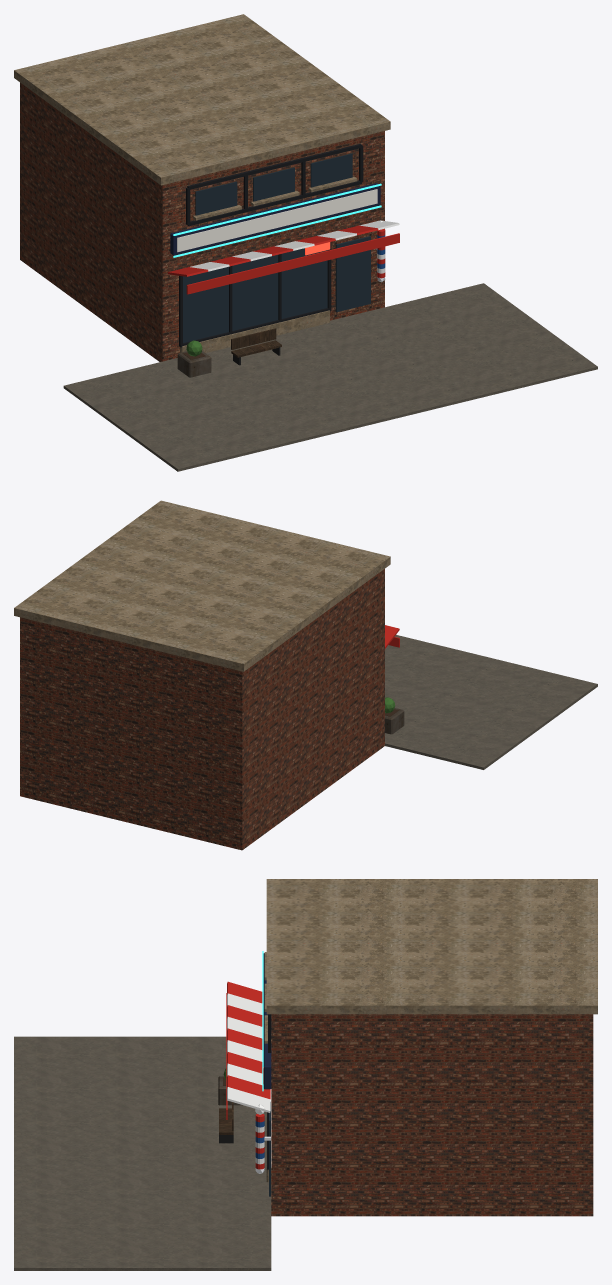
The model's file is OT_Barber_A.glb.
3 renders of one model, top to bottom at view 1: azimuth 30°, elevation 25°; view 2: azimuth 150°, elevation 25°; view 3: azimuth 270°, elevation 25°, orthographic. The views are drawn at different scales.
Parts seen in each view (by area): view 1: OT_Barber_A_Pavement, OT_Barber_A_Stone, OT_Barber_A_Brick, OT_Barber_A_Glass__22303a, OT_Barber_A_Frame__18191c, OT_Barber_A_BarberRed__c4261d, OT_Barber_A_SignFace__f2efe6, OT_Barber_A_SignNavy__1b2440, OT_Barber_A_PaintWhite__f0f0ee, OT_Barber_A_NeonTeal__2fe0d8, OT_Barber_A_Wood, OT_Barber_A_PlanterStone; view 2: OT_Barber_A_Brick, OT_Barber_A_Stone, OT_Barber_A_Pavement; view 3: OT_Barber_A_Brick, OT_Barber_A_Pavement, OT_Barber_A_Stone, OT_Barber_A_BarberRed__c4261d, OT_Barber_A_PaintWhite__f0f0ee, OT_Barber_A_SignNavy__1b2440.
Part boxes in pixels (x1,y1,x2,y2): OT_Barber_A_Pavement: (63,283,597,471); OT_Barber_A_Stone: (14,14,390,352); OT_Barber_A_Brick: (20,82,384,361); OT_Barber_A_Glass__22303a: (183,153,370,342); OT_Barber_A_Frame__18191c: (179,143,363,347); OT_Barber_A_BarberRed__c4261d: (168,225,399,294); OT_Barber_A_SignFace__f2efe6: (177,189,377,252); OT_Barber_A_SignNavy__1b2440: (170,183,380,255); OT_Barber_A_PaintWhite__f0f0ee: (190,220,399,273); OT_Barber_A_NeonTeal__2fe0d8: (173,183,381,257); OT_Barber_A_Wood: (231,328,281,357); OT_Barber_A_PlanterStone: (177,351,211,377); OT_Barber_A_Brick: (20,569,384,850); OT_Barber_A_Stone: (14,500,390,671); OT_Barber_A_Pavement: (385,635,597,769); OT_Barber_A_Brick: (271,1014,593,1216); OT_Barber_A_Pavement: (14,1036,271,1270); OT_Barber_A_Stone: (264,879,597,1182); OT_Barber_A_BarberRed__c4261d: (226,981,270,1169); OT_Barber_A_PaintWhite__f0f0ee: (227,993,270,1164); OT_Barber_A_SignNavy__1b2440: (263,953,271,1089).
Size of the model in its own units: 17 by 7.31 by 18.15.
Materials: 21 (5 with a texture image).
